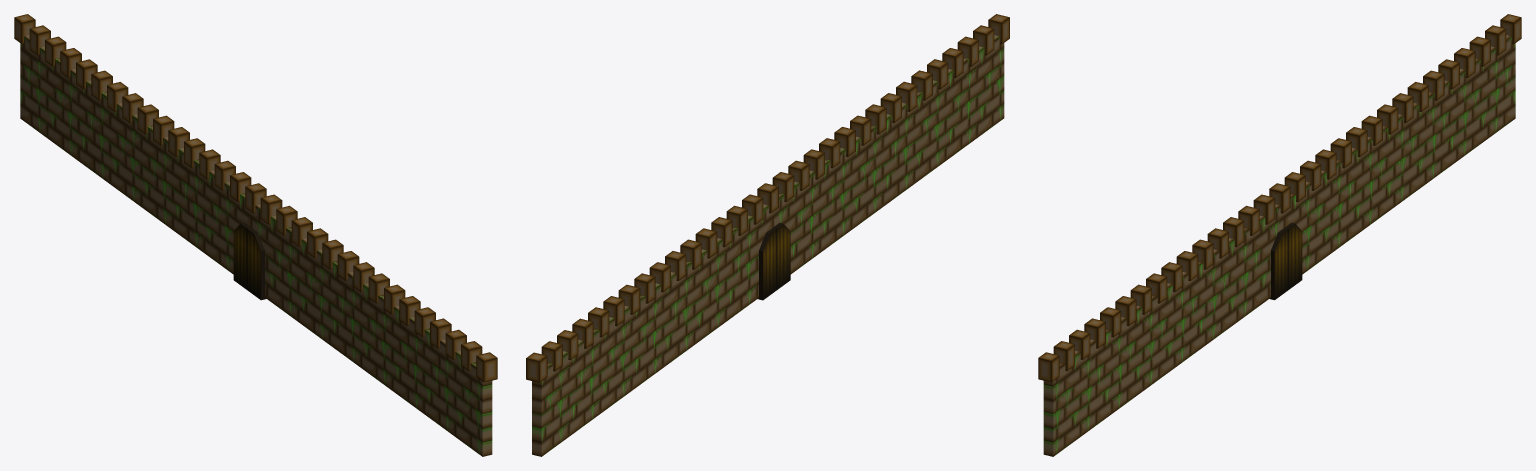
The model's file is ms_Decor_CastleWall01.fbx.
The picture shows the model from 3 angles, left to right: view 1: azimuth 30°, elevation 25°; view 2: azimuth 150°, elevation 25°; view 3: azimuth 330°, elevation 25°; orthographic projection.
Visible parts, largest first — view 1: polySurface2; view 2: polySurface2; view 3: polySurface2.
Boxes of the visible parts, x1,y1,x2,y2 form: polySurface2: (14, 14, 497, 456); polySurface2: (526, 14, 1009, 456); polySurface2: (1038, 14, 1521, 456).
Bounding box in the file's own units: 85.52 × 474 × 4014.
